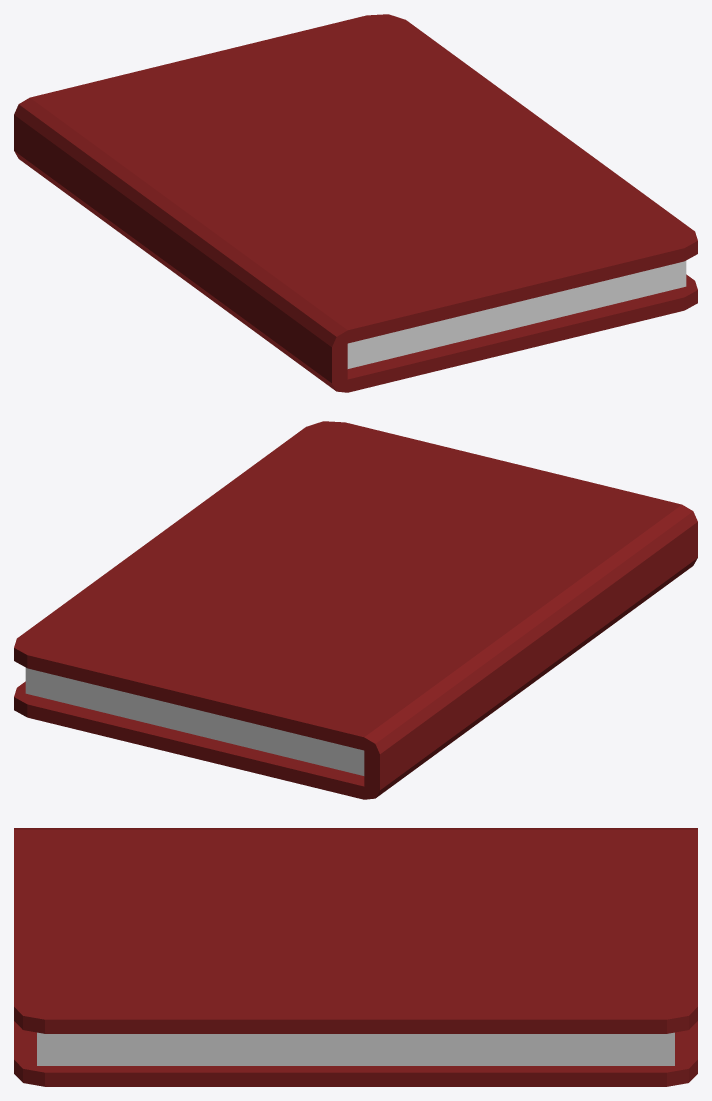
Rendered from Book.fbx.
3 renders of one model, top to bottom at view 1: azimuth 30°, elevation 25°; view 2: azimuth 150°, elevation 25°; view 3: azimuth 270°, elevation 25°, orthographic. The views are drawn at different scales.
Visible parts, largest first — view 1: Cube; view 2: Cube; view 3: Cube.
Part boxes in pixels (x1,y1,x2,y2): Cube: [14, 14, 697, 392]; Cube: [14, 421, 697, 799]; Cube: [14, 828, 697, 1086].
Bounding box in the file's own units: 2 × 0.3162 × 2.92.
